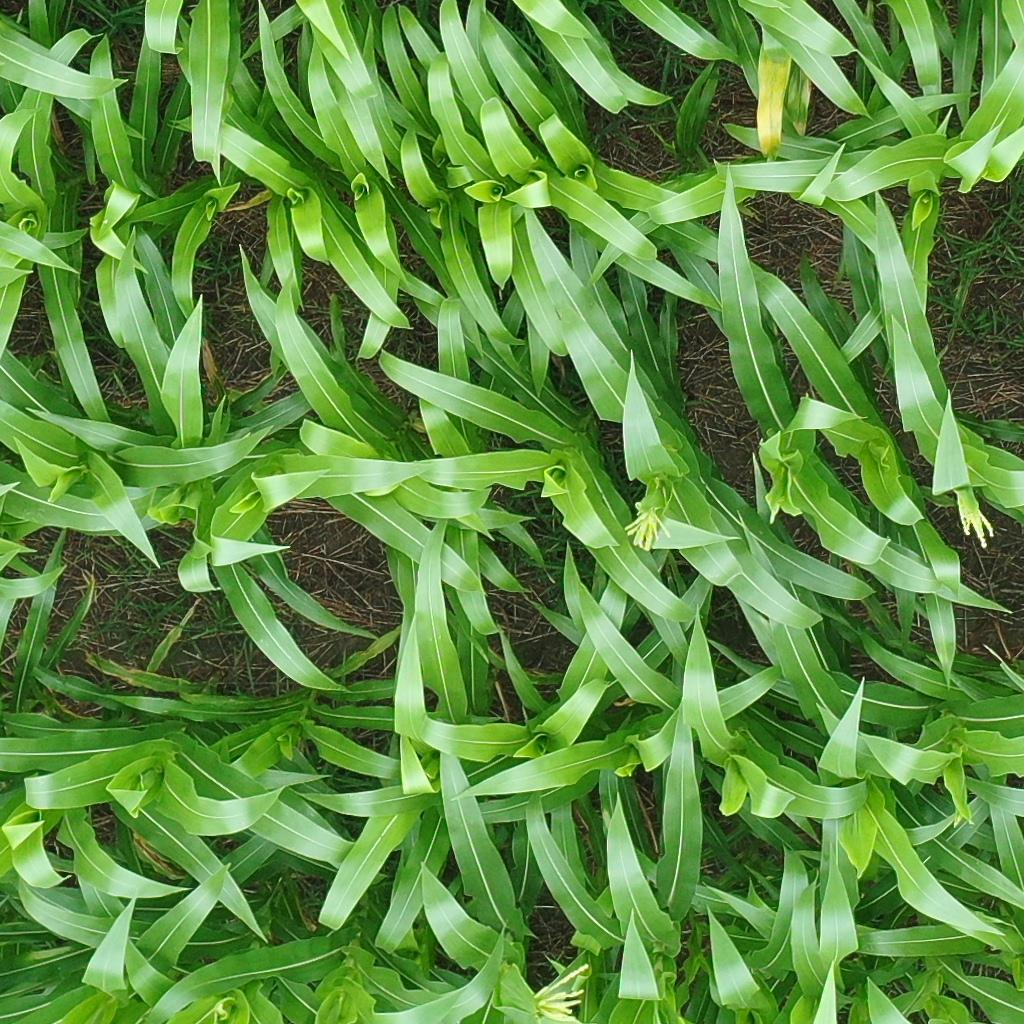Tassel: (521, 961, 593, 1023), (953, 477, 998, 550), (628, 495, 669, 554)
